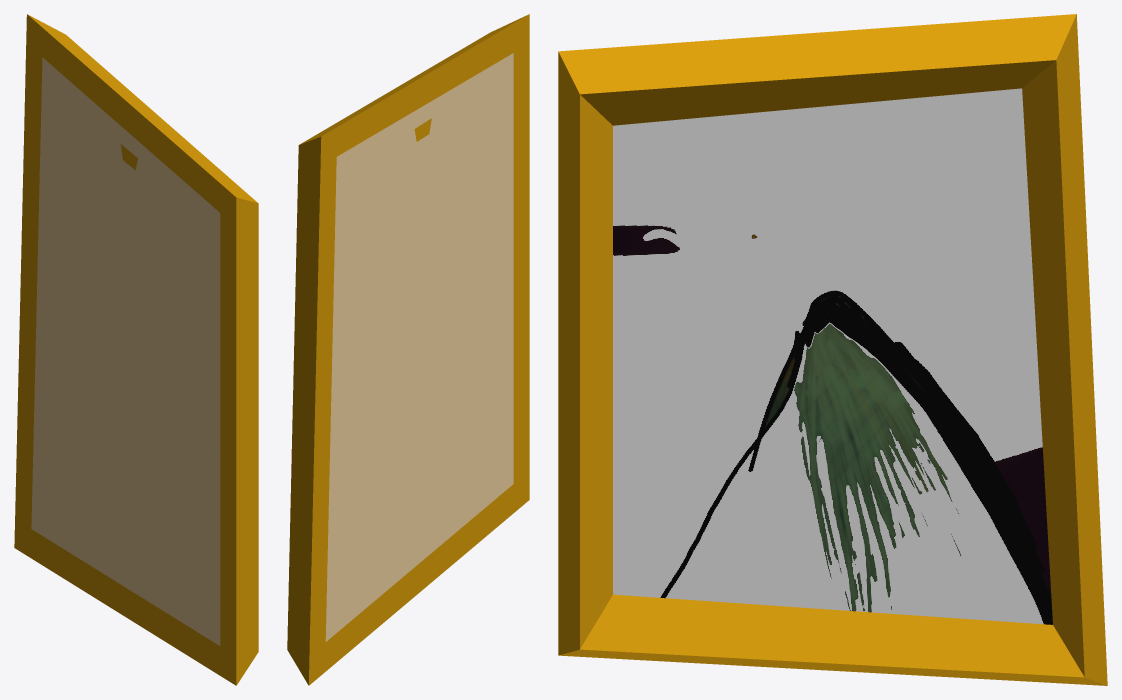
The model's file is 20_Painting_Ok.fbx.
3 renders of one model, left to right at view 1: azimuth 30°, elevation 25°; view 2: azimuth 150°, elevation 25°; view 3: azimuth 270°, elevation 25°, orthographic. The views are drawn at different scales.
Parts seen in each view (by area): view 1: 20_Painting1; view 2: 20_Painting1; view 3: 20_Painting1.
Boxes of the visible parts, box(x1,y1,x2,y2) form: 20_Painting1: box(14, 14, 258, 685); 20_Painting1: box(287, 14, 529, 685); 20_Painting1: box(558, 14, 1107, 685).
Bounding box in the file's own units: 10.43 × 175 × 130.
3 materials, 1 textured.
